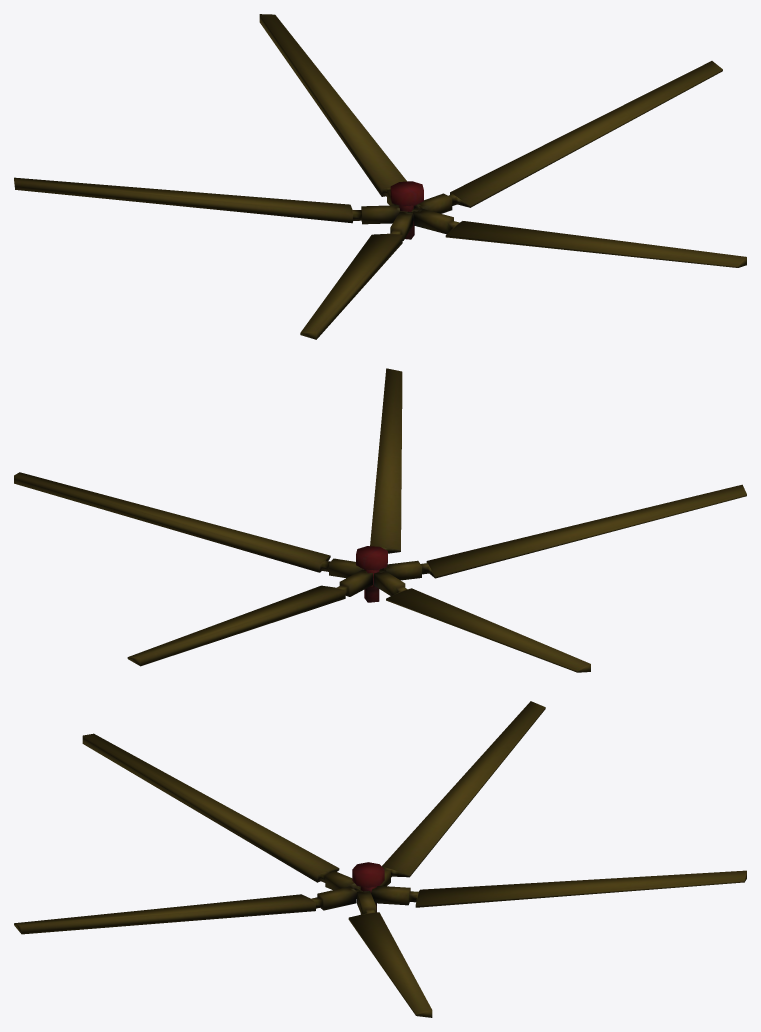
The model's file is chopper_blades.obj.
3 views of the same model, one above another, from view 1: azimuth 30°, elevation 25°; view 2: azimuth 150°, elevation 25°; view 3: azimuth 270°, elevation 25° (orthographic). The views are drawn at different scales.
Parts seen in each view (by area): view 1: Mi24_fan01; view 2: Mi24_fan01; view 3: Mi24_fan01.
Boxes of the visible parts, box(x1,y1,x2,y2) form: Mi24_fan01: box(14, 14, 746, 339); Mi24_fan01: box(14, 368, 746, 672); Mi24_fan01: box(14, 701, 746, 1017).
Size of the model in its own units: 47.9 by 4.93 by 47.88.
Materials: 1 (1 with a texture image).
